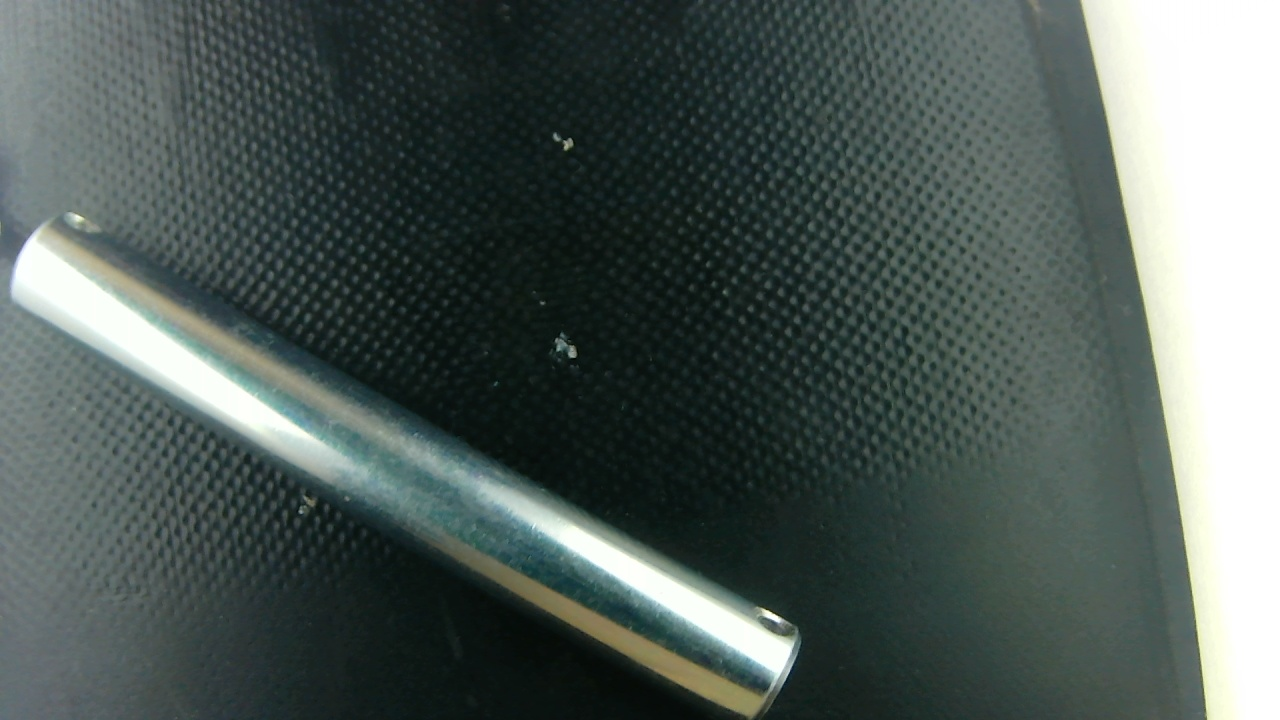Okay_Pin: (11, 213, 798, 717)
